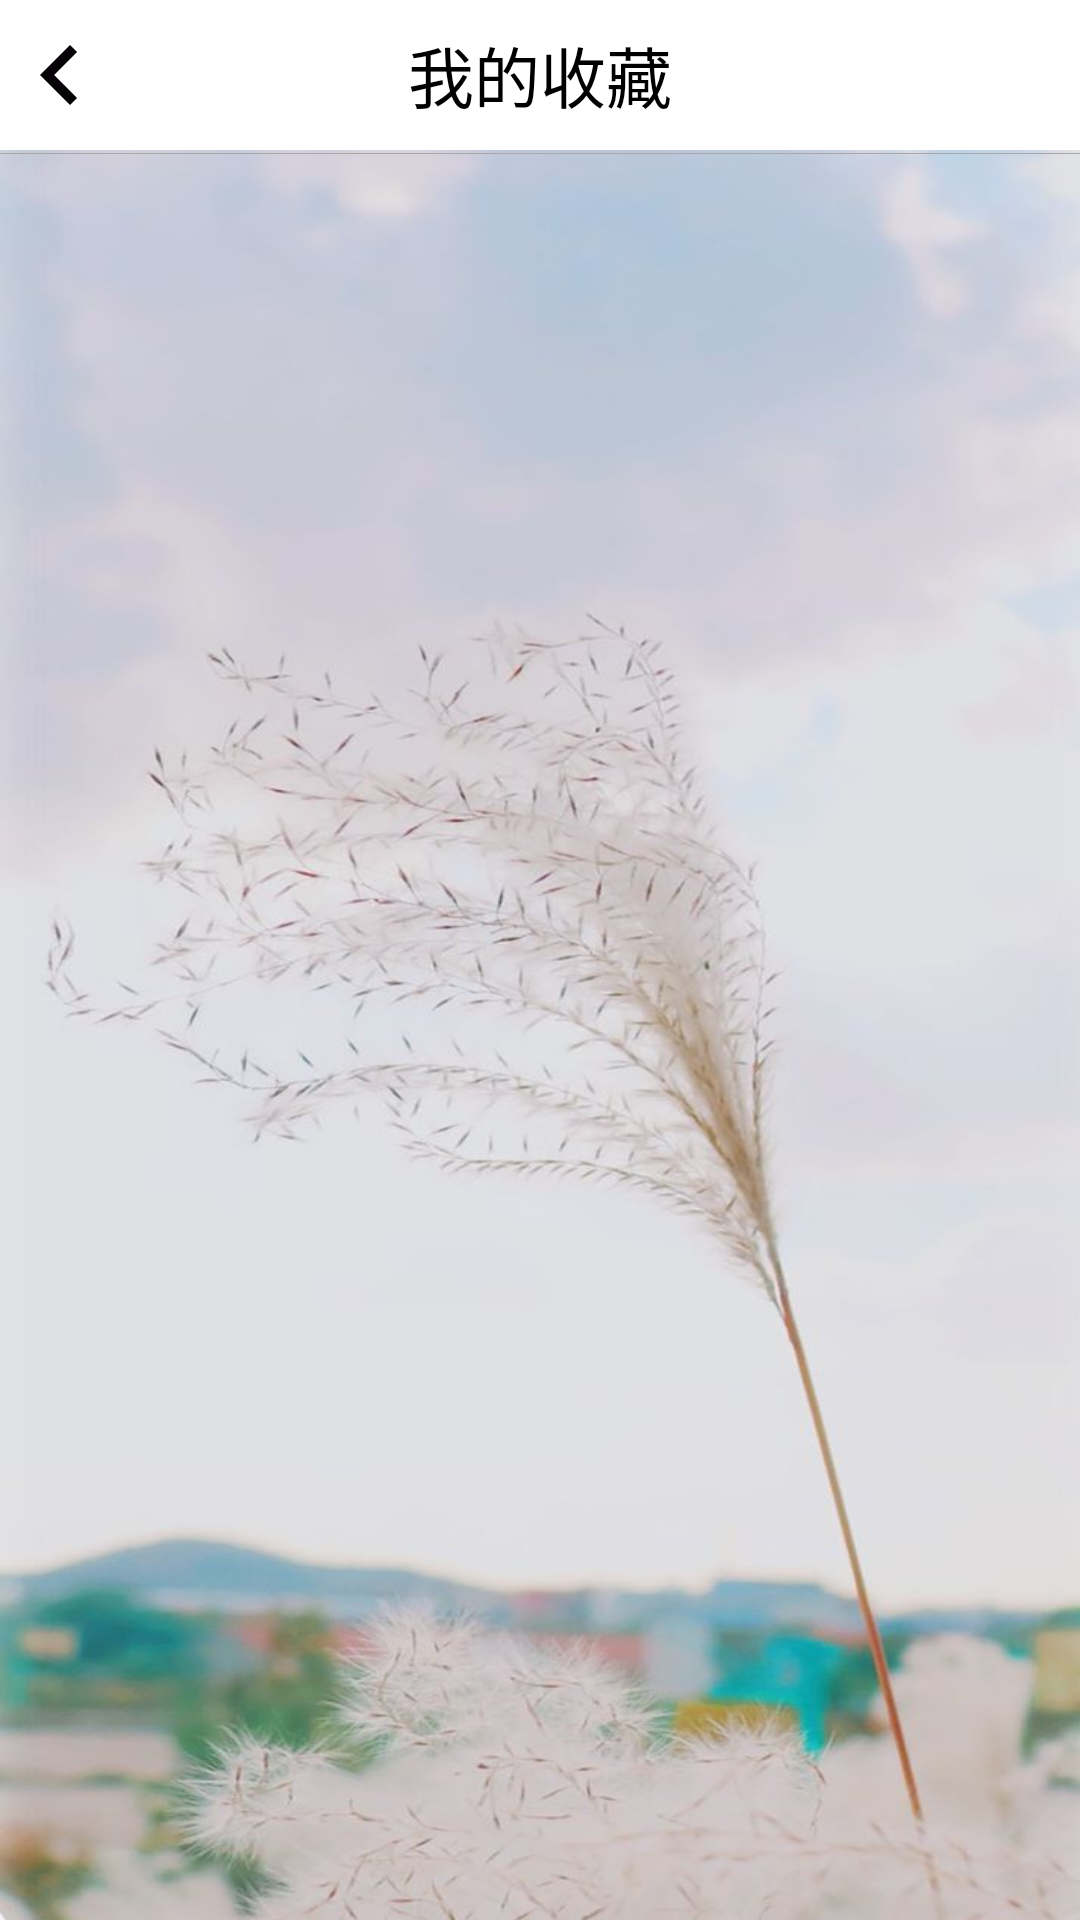

Icons on this 1080*1920 Android screen, each with its box as [x1, y1, x2, y2]:
keyboard arrow left: [40, 45, 77, 105]
